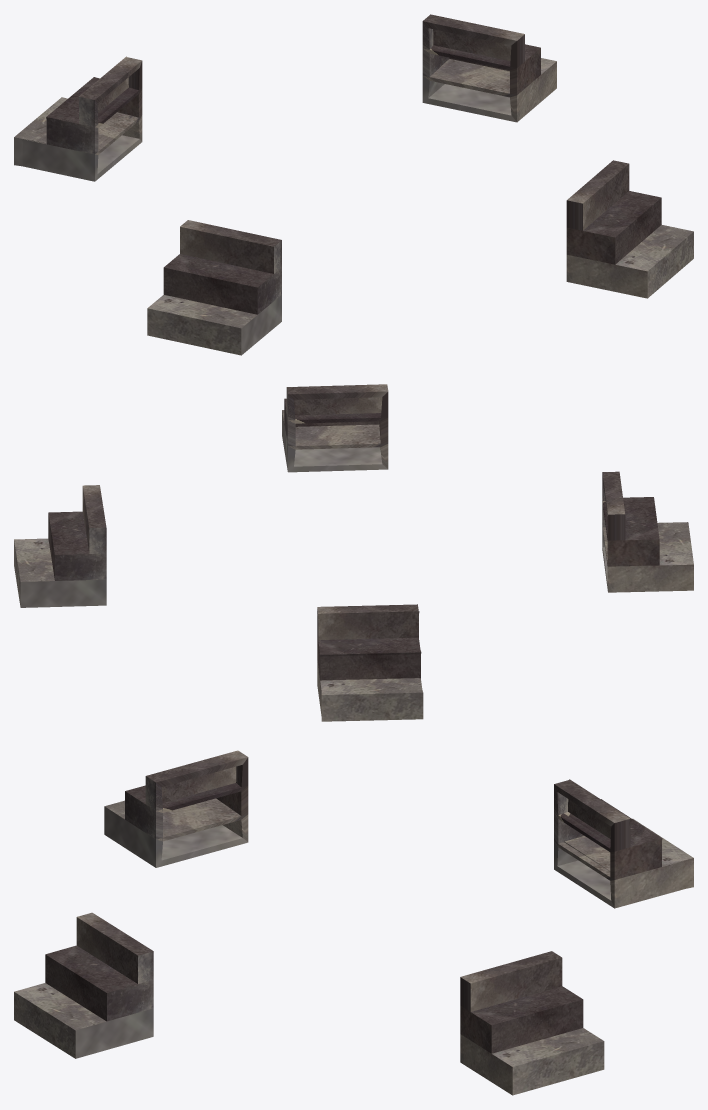
Rendered from stairs2.FBX.
3 views of the same model, one above another, from view 1: azimuth 30°, elevation 25°; view 2: azimuth 150°, elevation 25°; view 3: azimuth 270°, elevation 25° (orthographic). The views are drawn at different scales.
Visible parts, largest first — view 1: portaat006, portaat007, portaat1, portaat005; view 2: portaat005, portaat007, portaat1, portaat006; view 3: portaat1, portaat007, portaat006, portaat005.
Part boxes in pixels (bbox=[...]): portaat006: bbox=[147, 220, 281, 355]; portaat007: bbox=[566, 160, 693, 298]; portaat1: bbox=[422, 14, 556, 122]; portaat005: bbox=[14, 56, 142, 181]; portaat005: bbox=[317, 604, 423, 721]; portaat007: bbox=[282, 384, 388, 472]; portaat1: bbox=[14, 485, 106, 607]; portaat006: bbox=[602, 471, 693, 592]; portaat1: bbox=[460, 951, 604, 1095]; portaat007: bbox=[14, 912, 153, 1058]; portaat006: bbox=[104, 750, 248, 867]; portaat005: bbox=[554, 779, 693, 908].
Size of the model in its own units: 283 by 39.71 by 284.
1 material, 1 textured.
